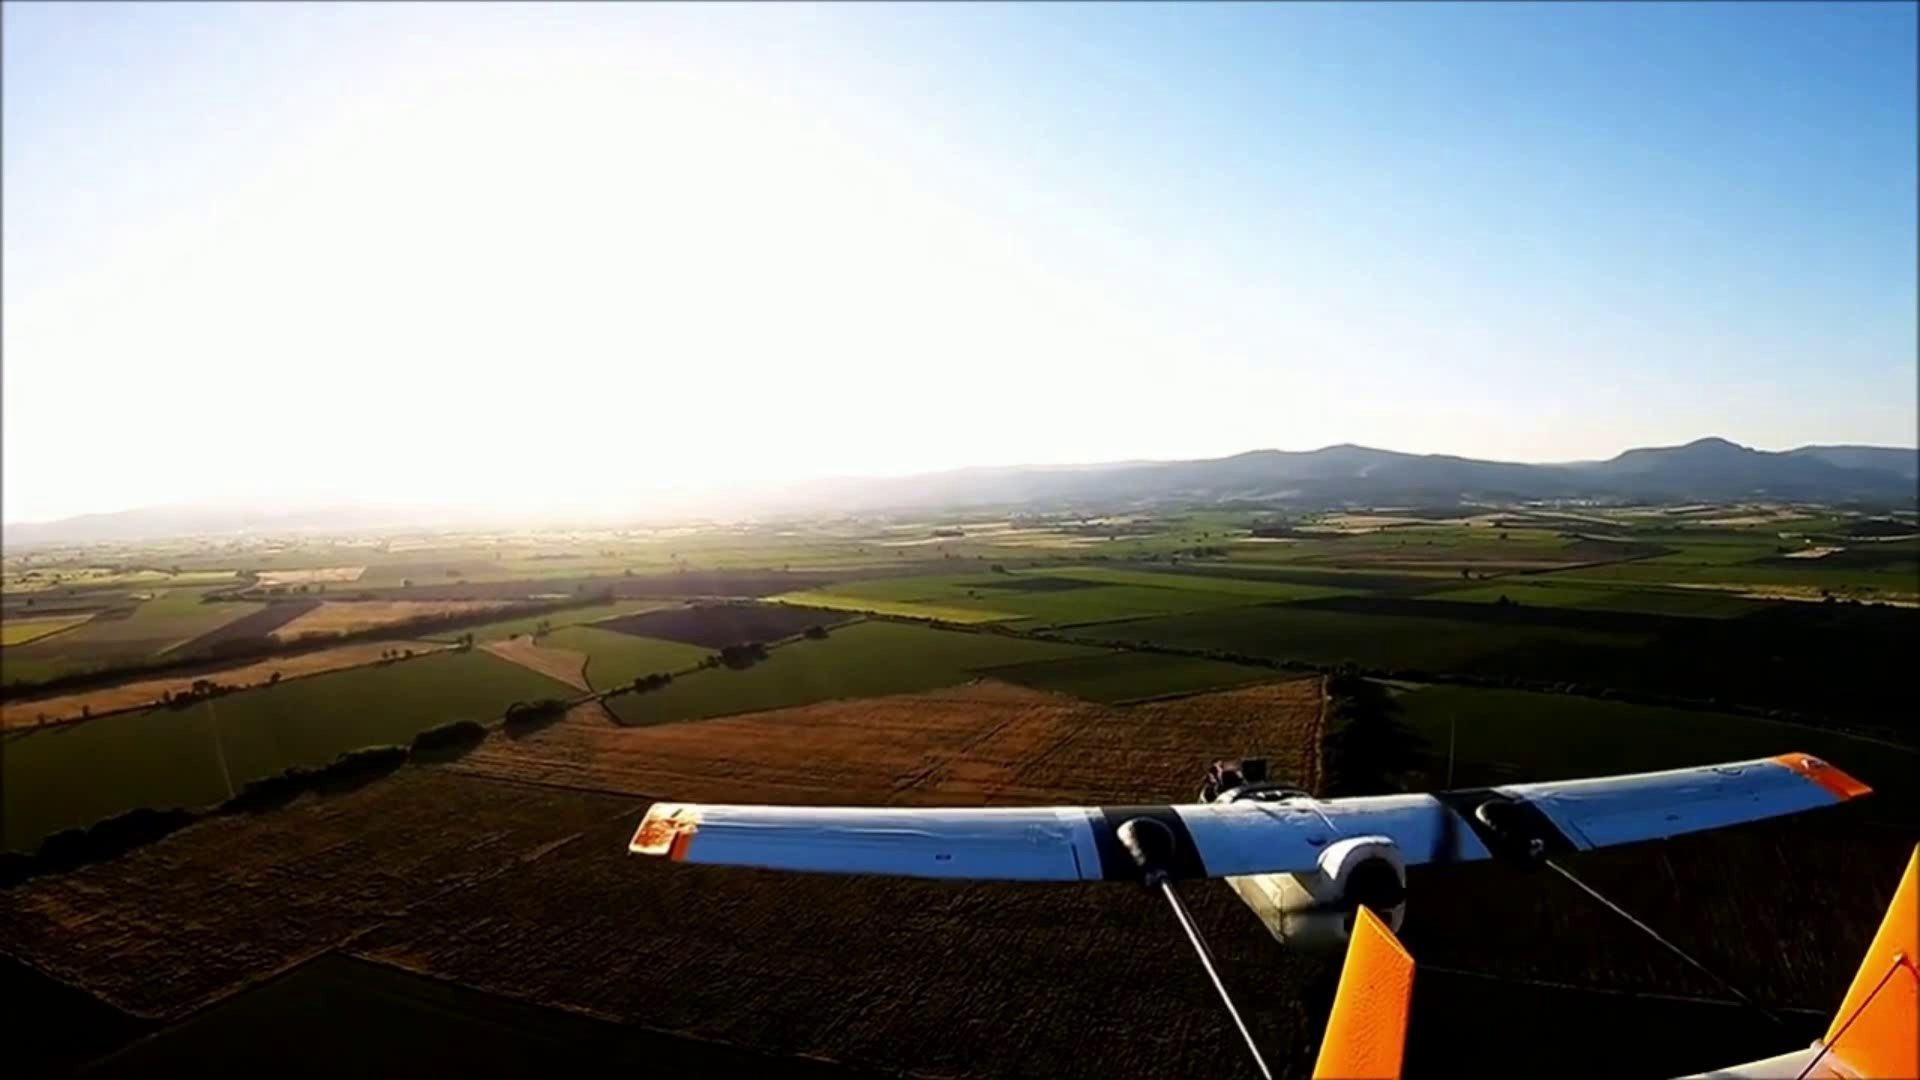airplane: (625, 750, 1894, 1055)
